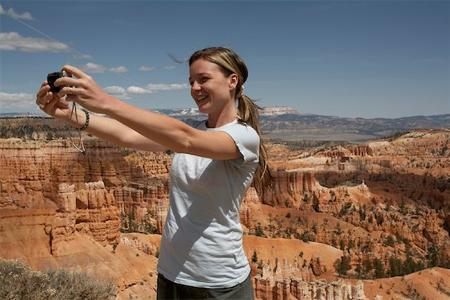person: (37, 47, 263, 300)
